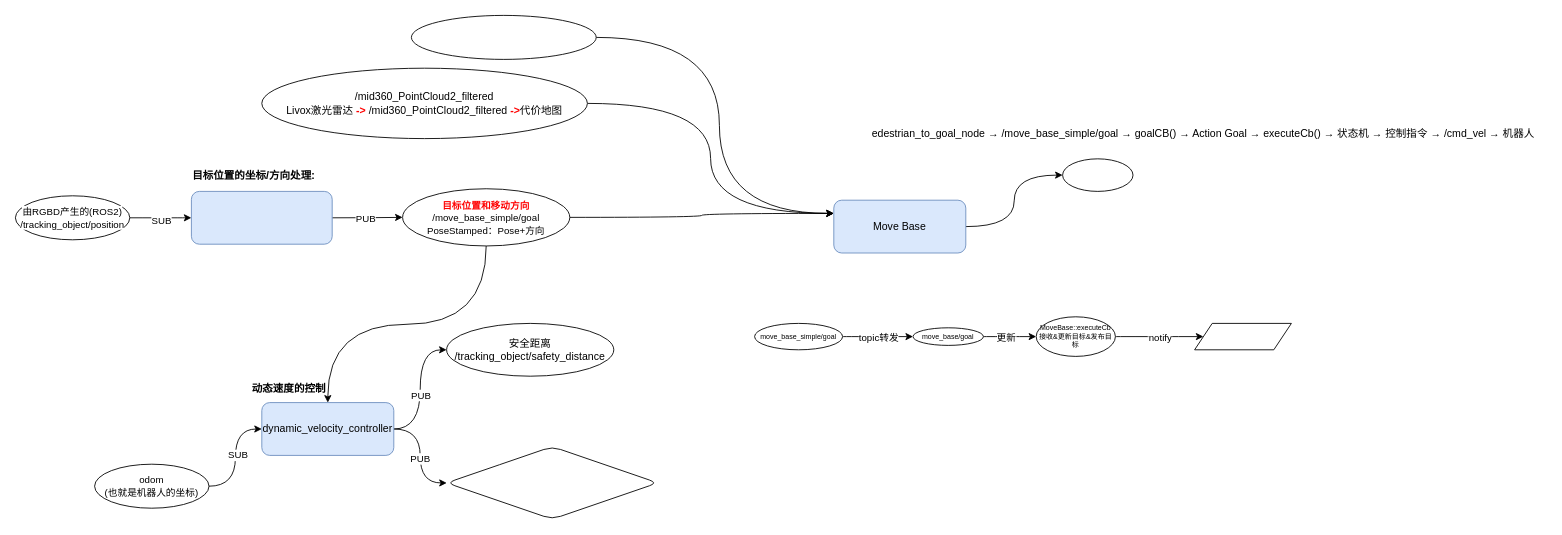
This 1562x535 diagram has some shape labels left out. Here are the shapes that lost their labels. From the top down, the box of each, then its label:
(411, 15, 596, 59): /tf & /tf_static & /odom
(1062, 158, 1133, 191): current_goal
(191, 191, 332, 244): pedestrian_to_goal_node.py 根据历史点和当前点计算方向(四元数)
(1194, 323, 1291, 350): Planner Thread
(446, 446, 658, 519): TEB局部路径规划器动态参数 /move_base/TebLocalPlannerROS （最大速度限制）
